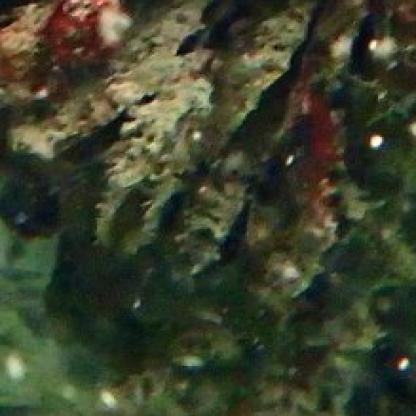Oyster- Indeterminate: (257, 185, 350, 310)
Oyster-Closed: (8, 0, 224, 159)
Oyster-Open: (97, 75, 208, 255), (208, 0, 318, 172), (181, 167, 263, 286), (337, 0, 377, 97)
